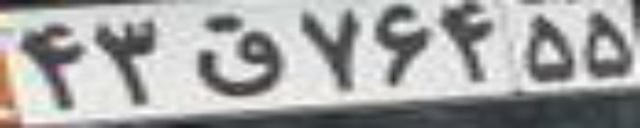3: (89, 18, 160, 106)
4: (18, 21, 84, 112), (439, 2, 495, 84)
5: (516, 13, 576, 83), (580, 10, 634, 79)
6: (375, 4, 432, 88)
7: (296, 8, 362, 92)
ghaf: (189, 13, 281, 97)
